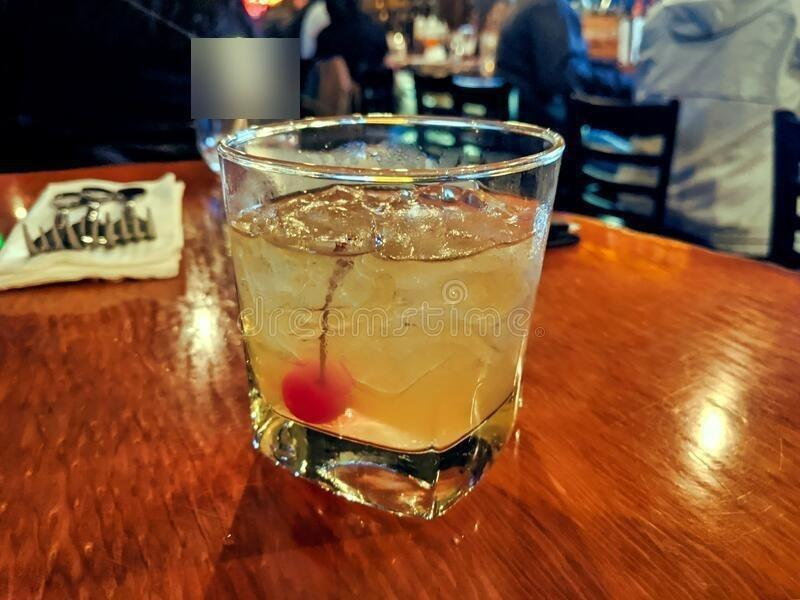glass-normal: (211, 114, 568, 526)
